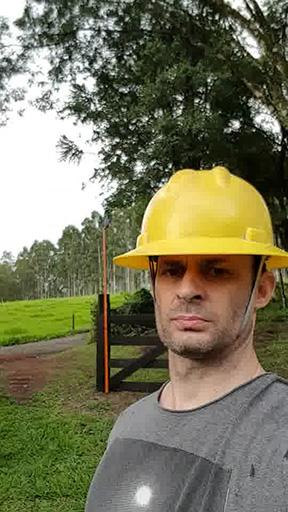Vara_Manobra: (100, 225, 112, 394)
